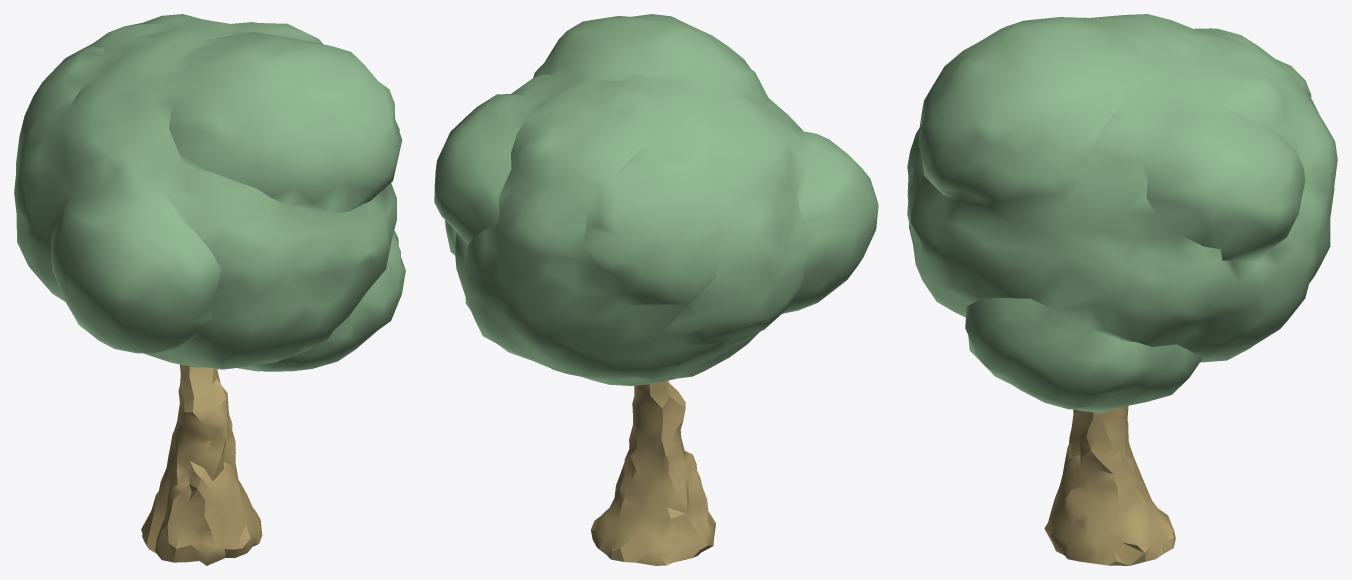
Rendered from Tree_2.fbx.
The picture shows the model from 3 angles, left to right: view 1: azimuth 30°, elevation 25°; view 2: azimuth 150°, elevation 25°; view 3: azimuth 270°, elevation 25°; orthographic projection. The views are drawn at different scales.
Parts seen in each view (by area): view 1: polySurface3, pCube3; view 2: polySurface3, pCube3; view 3: polySurface3, pCube3.
Boxes of the visible parts, box(x1,y1,x2,y2) form: polySurface3: box(14, 14, 405, 371); pCube3: box(141, 364, 262, 565); polySurface3: box(434, 14, 878, 385); pCube3: box(591, 380, 715, 565); polySurface3: box(907, 14, 1337, 413); pCube3: box(1044, 405, 1175, 565).
Size of the model in its own units: 4.93 by 6.76 by 5.
